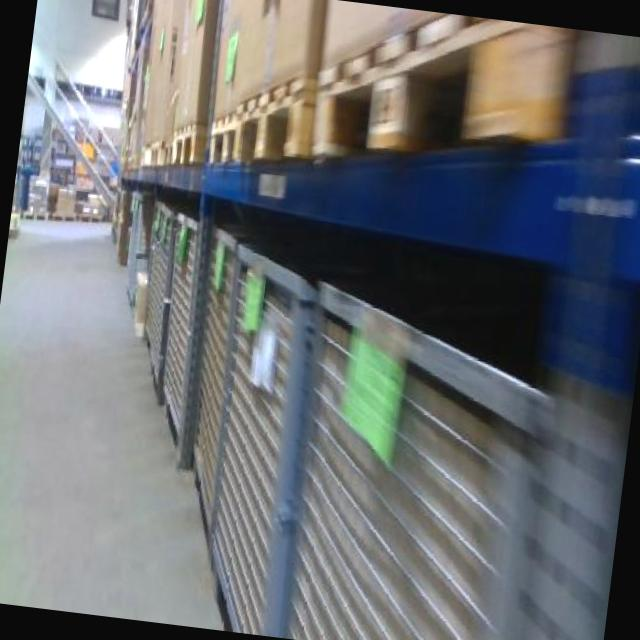pallet: (121, 0, 575, 184)
